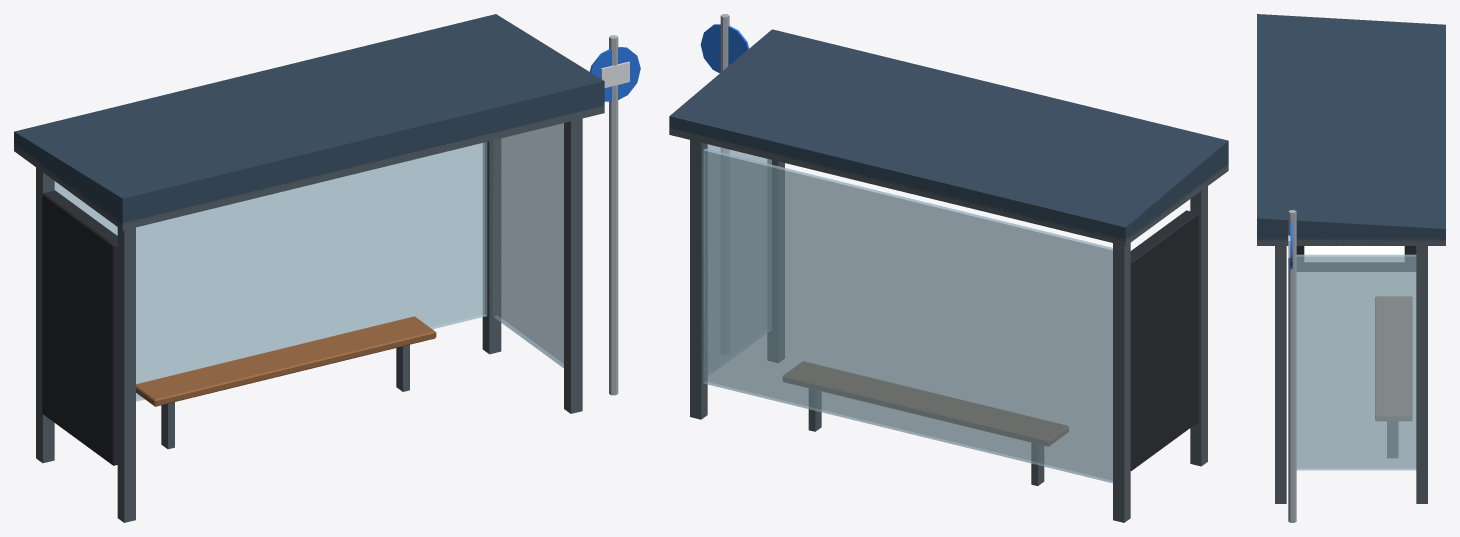
File: bus_shelter.glb
The picture shows the model from 3 angles, left to right: view 1: azimuth 30°, elevation 25°; view 2: azimuth 150°, elevation 25°; view 3: azimuth 270°, elevation 25°; orthographic projection. The views are drawn at different scales.
Parts seen in each view (by area): view 1: bus_shelter; view 2: bus_shelter; view 3: bus_shelter.
Part boxes in pixels (box(x1,y1,x2,y2)): bus_shelter: box(14, 14, 640, 522); bus_shelter: box(669, 14, 1228, 522); bus_shelter: box(1257, 14, 1445, 522).
Bounding box in the file's own units: 4.57 × 2.9 × 1.6.
